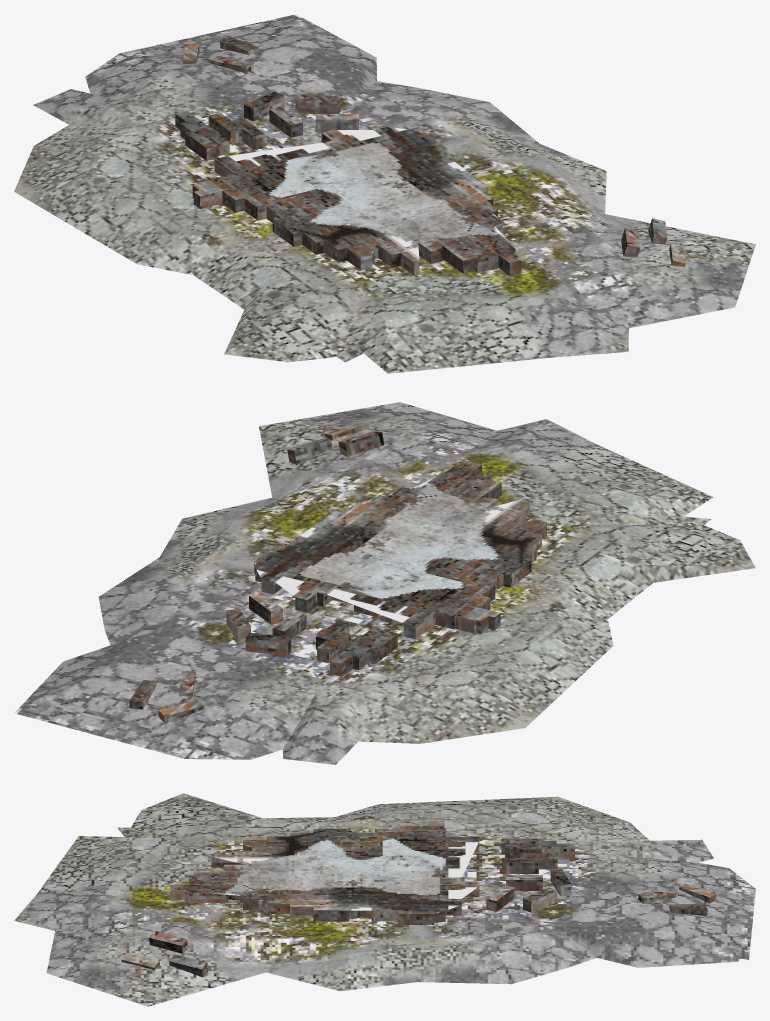
File: EscombrosA.fbx
The picture shows the model from 3 angles, top to bottom: view 1: azimuth 30°, elevation 25°; view 2: azimuth 150°, elevation 25°; view 3: azimuth 270°, elevation 25°; orthographic projection. The views are drawn at different scales.
Visible parts, largest first — view 1: Ruin2; view 2: Ruin2; view 3: Ruin2.
Boxes of the visible parts, x1=… form: Ruin2: x1=14, y1=14, x2=755, y2=373; Ruin2: x1=14, y1=402, x2=755, y2=764; Ruin2: x1=14, y1=793, x2=755, y2=1006.
Size of the model in its own units: 1441 by 79.56 by 2114.
Materials: 1 (1 with a texture image).
